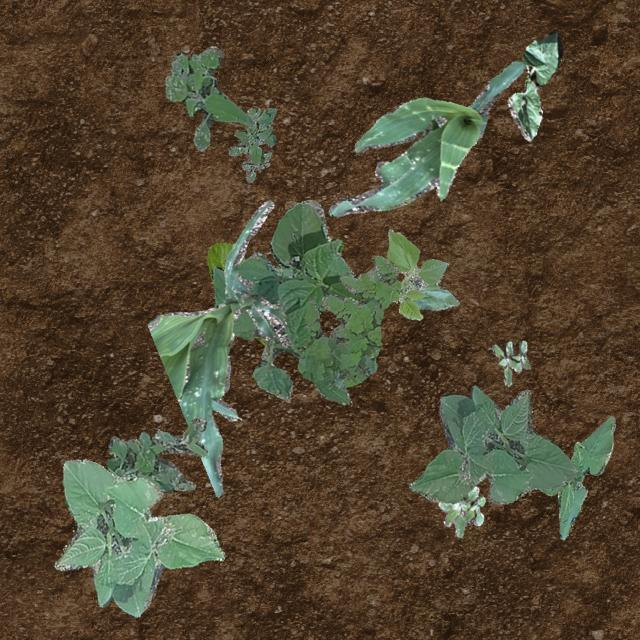crop: (147, 198, 290, 496), (210, 198, 360, 404), (328, 61, 526, 216), (54, 459, 225, 616), (408, 384, 576, 504), (538, 414, 614, 538), (386, 228, 458, 318), (206, 242, 266, 344), (506, 31, 562, 140)
weed: (298, 254, 400, 388), (165, 44, 252, 150), (106, 416, 206, 492), (228, 106, 276, 182), (438, 484, 484, 536), (490, 340, 530, 386), (270, 264, 294, 276)
